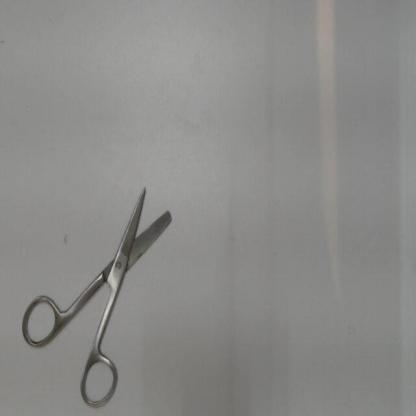Dressing Scissors: (13, 172, 182, 414)
